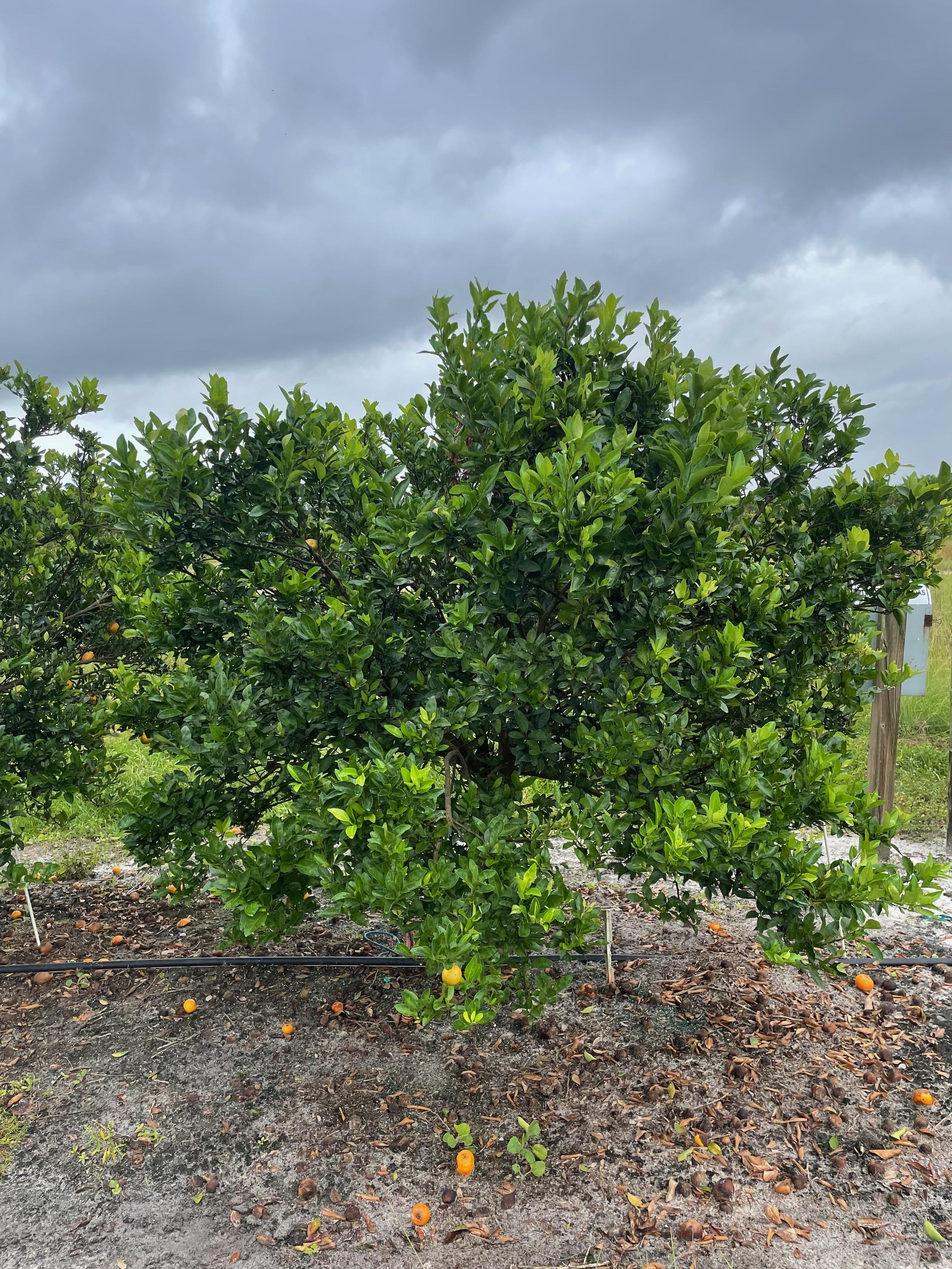fruit_on_ground: (438, 961, 466, 987), (299, 533, 323, 556), (82, 690, 99, 707), (83, 760, 99, 775), (105, 619, 121, 634), (80, 649, 96, 664), (139, 731, 153, 745), (62, 678, 74, 690)
fruit_on_tree: (675, 1217, 705, 1242), (454, 1146, 477, 1176), (408, 1201, 432, 1227), (852, 970, 877, 993), (911, 1086, 937, 1108), (879, 977, 902, 995), (577, 980, 597, 997), (31, 970, 52, 986), (181, 996, 199, 1014), (439, 1189, 457, 1206), (281, 1021, 295, 1036), (331, 999, 345, 1013), (38, 941, 52, 954), (707, 919, 721, 932), (300, 889, 313, 902), (177, 915, 192, 926), (88, 921, 103, 932), (229, 825, 243, 836), (9, 908, 23, 919), (72, 879, 84, 890), (111, 934, 124, 944), (111, 863, 122, 874), (129, 891, 140, 902), (74, 918, 86, 928), (166, 883, 177, 893), (48, 874, 59, 883)
